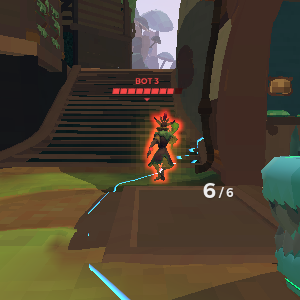model: (142, 111, 186, 184)
